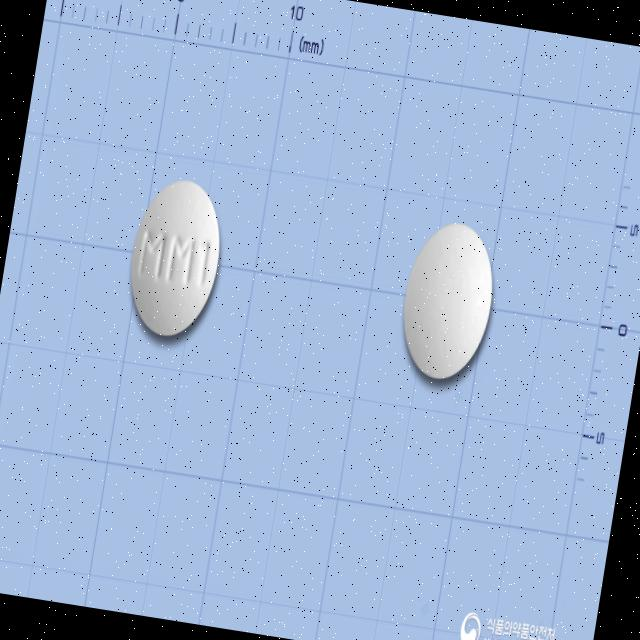Leflunomide - 20mg: (392, 215, 504, 388), (120, 172, 232, 343)
